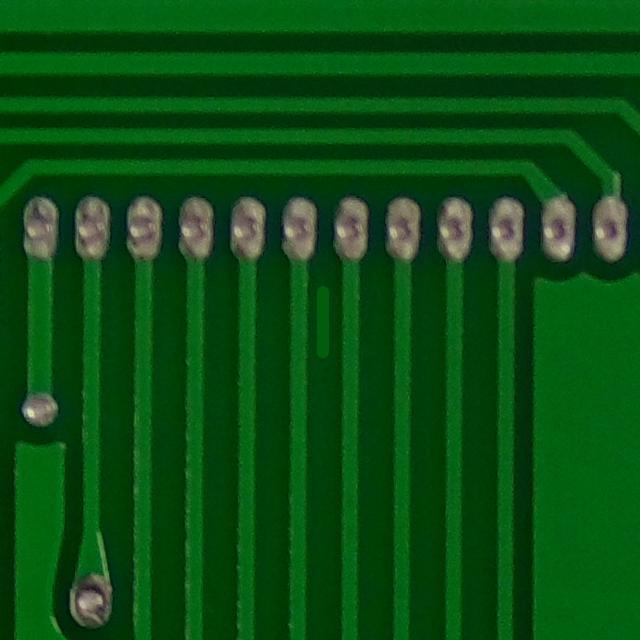spurious_copper: (293, 274, 347, 366)
